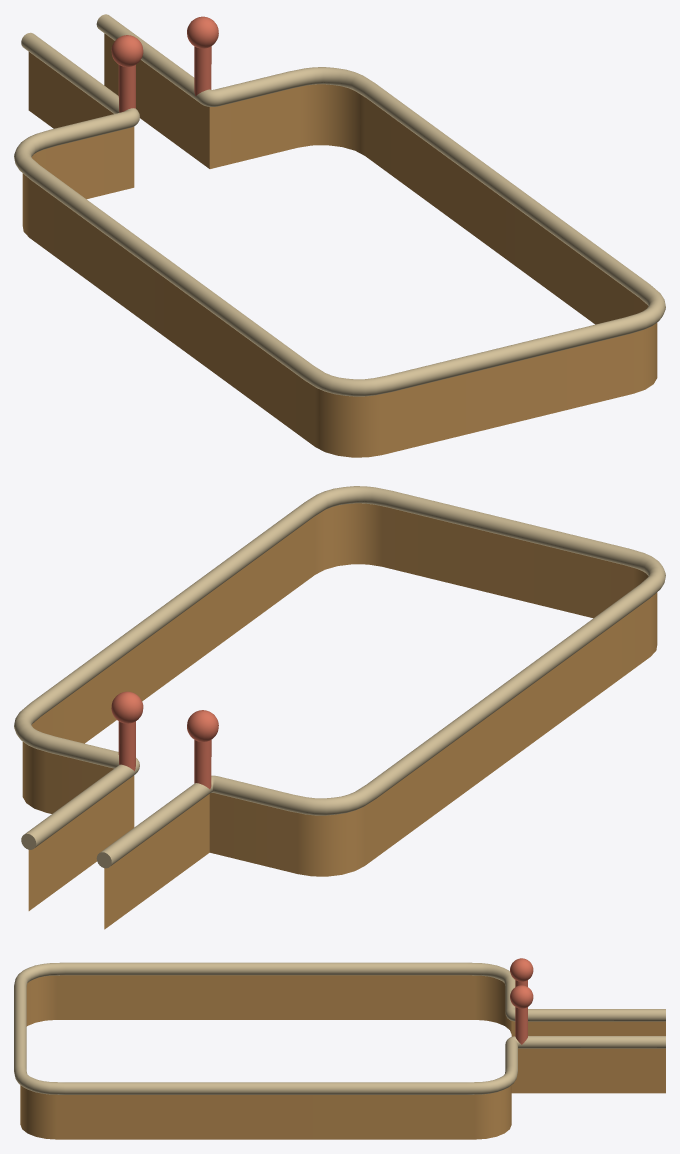
The model's file is LevelStart.fbx.
The picture shows the model from 3 angles, top to bottom: view 1: azimuth 30°, elevation 25°; view 2: azimuth 150°, elevation 25°; view 3: azimuth 270°, elevation 25°; orthographic projection. The views are drawn at different scales.
Visible parts, largest first — view 1: LevelStart; view 2: LevelStart; view 3: LevelStart.
Part boxes in pixels (bbox=[...]): LevelStart: bbox=[14, 14, 665, 457]; LevelStart: bbox=[14, 486, 665, 929]; LevelStart: bbox=[14, 958, 665, 1139].
Size of the model in its own units: 580 by 231 by 1277.
